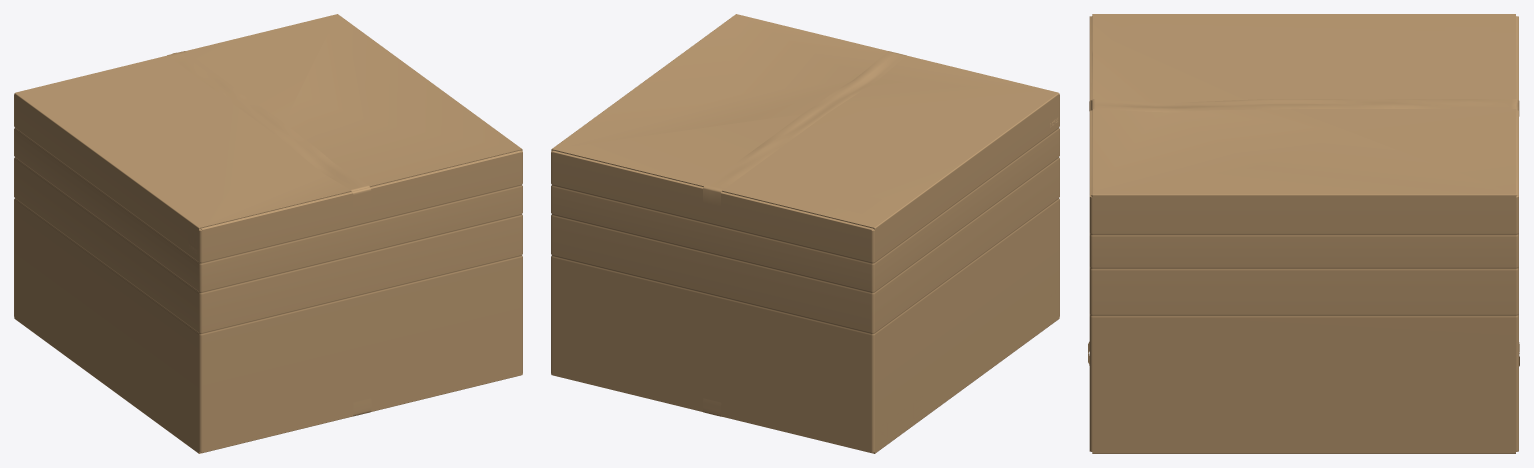
The model's file is box_multiDepth_brown_b11.glb.
The picture shows the model from 3 angles, left to right: view 1: azimuth 30°, elevation 25°; view 2: azimuth 150°, elevation 25°; view 3: azimuth 270°, elevation 25°; orthographic projection. The views are drawn at different scales.
Size of the model in its own units: 0.4569 by 0.3069 by 0.4598.
